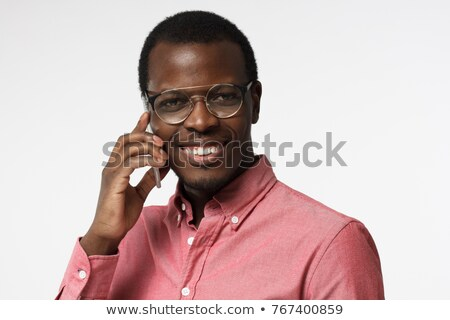phone: (133, 109, 171, 193)
talk: (99, 73, 249, 240)
